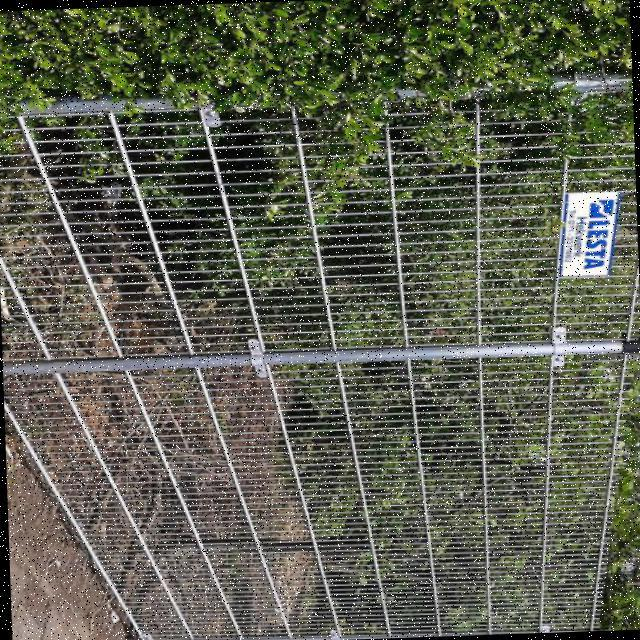fence line: (4, 83, 639, 637)
